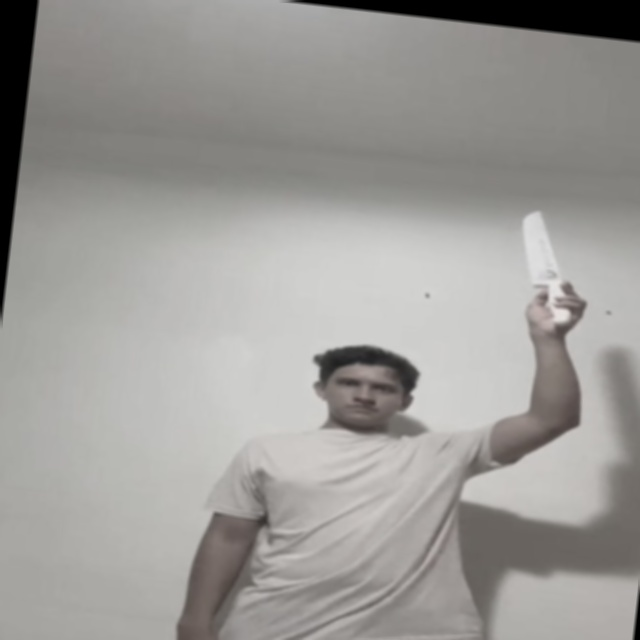Sharp-Object: (515, 207, 566, 283)
